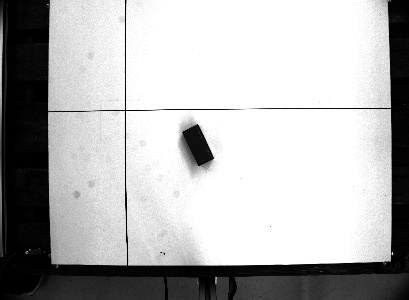b3: (179, 122, 215, 167)
